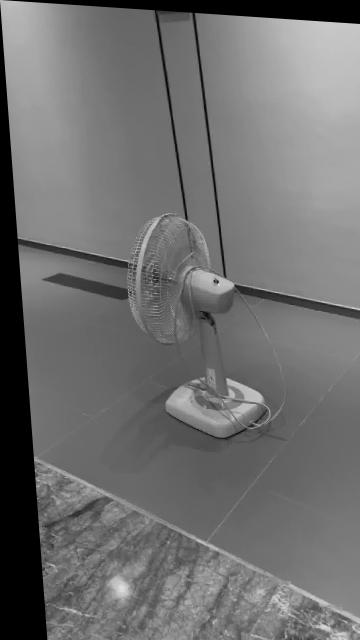Fan: (123, 211, 263, 437)
